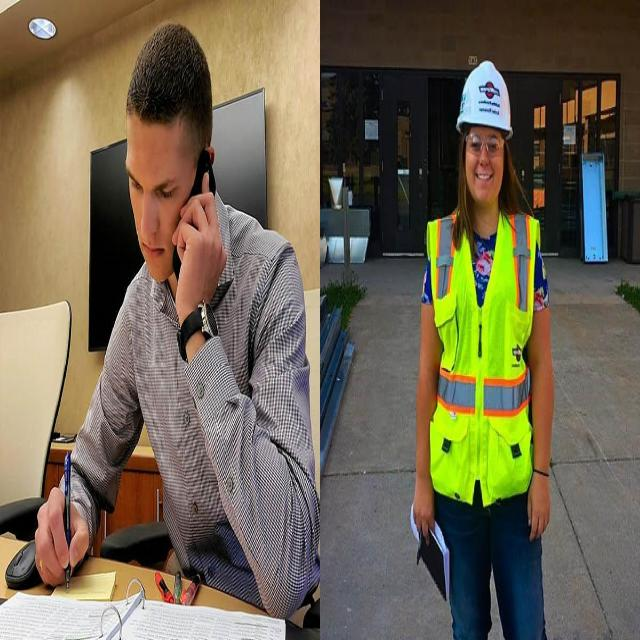Reflective-Jacket: (421, 205, 549, 509)
Safety-Helmet: (454, 54, 515, 140)
